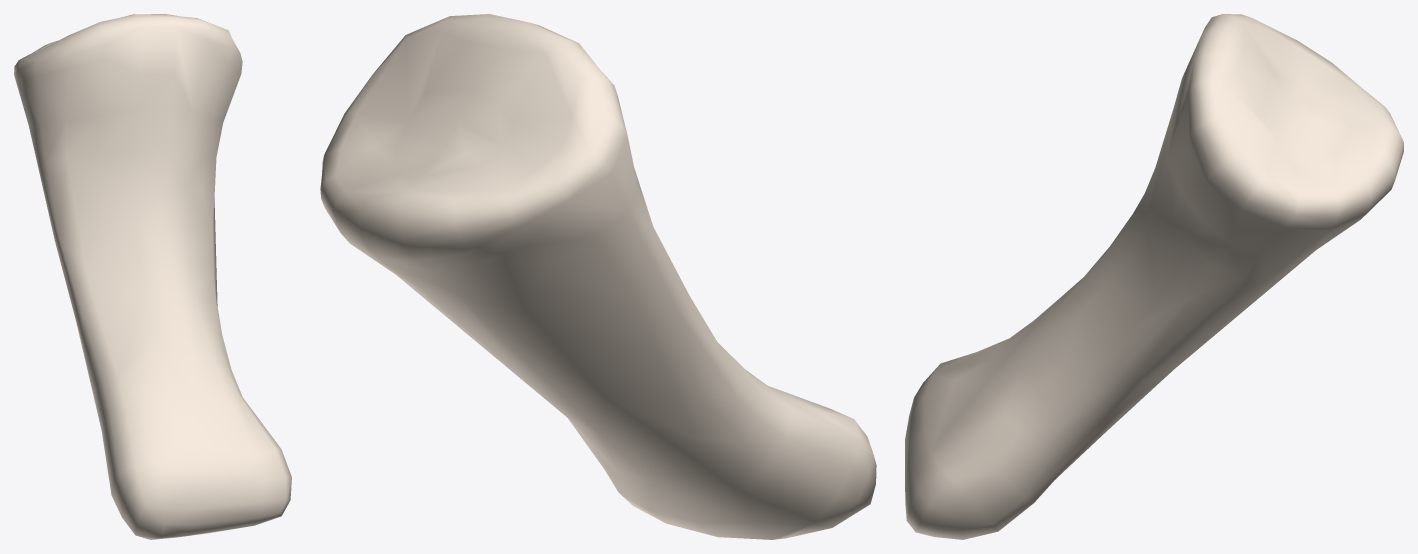
File: left_digit_5_middle.glb
3 renders of one model, left to right at view 1: azimuth 30°, elevation 25°; view 2: azimuth 150°, elevation 25°; view 3: azimuth 270°, elevation 25°, orthographic. The views are drawn at different scales.
Parts seen in each view (by area): view 1: Middle phalanx of 5th finger.r; view 2: Middle phalanx of 5th finger.r; view 3: Middle phalanx of 5th finger.r.
Part boxes in pixels (box(x1,y1,x2,y2)): Middle phalanx of 5th finger.r: box(14, 14, 291, 539); Middle phalanx of 5th finger.r: box(320, 14, 876, 539); Middle phalanx of 5th finger.r: box(905, 14, 1403, 539).
Bounding box in the file's own units: 0.0114 × 0.0193 × 0.0171.
